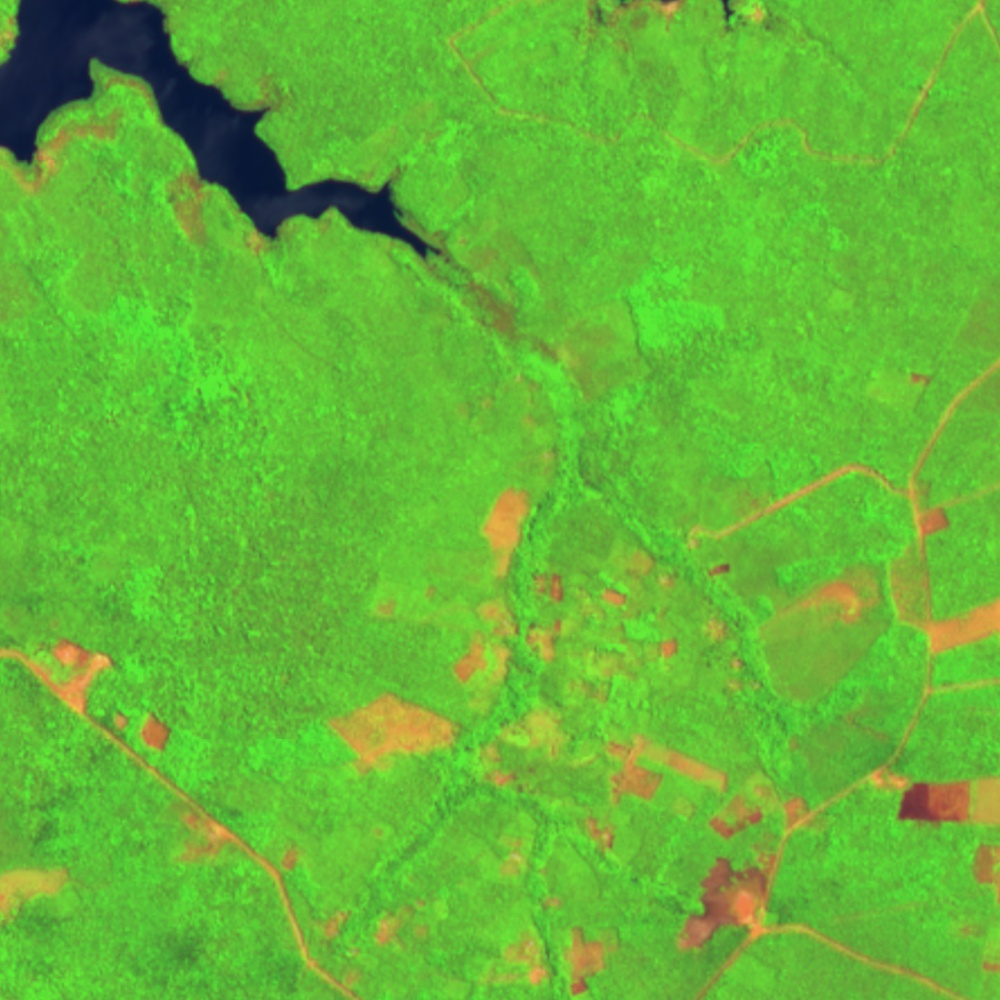legal: (354, 478, 539, 689), (677, 780, 820, 955), (526, 545, 678, 700), (757, 548, 895, 705), (5, 75, 146, 200), (37, 637, 175, 755), (600, 725, 738, 824), (492, 892, 614, 998), (324, 687, 466, 776), (476, 705, 597, 807), (173, 801, 298, 884), (316, 889, 431, 977), (574, 1, 807, 42), (871, 767, 1000, 823), (1, 862, 73, 928), (927, 596, 1000, 656), (703, 551, 737, 653), (965, 840, 1000, 905), (718, 651, 768, 694), (909, 502, 957, 544), (239, 226, 269, 255)
